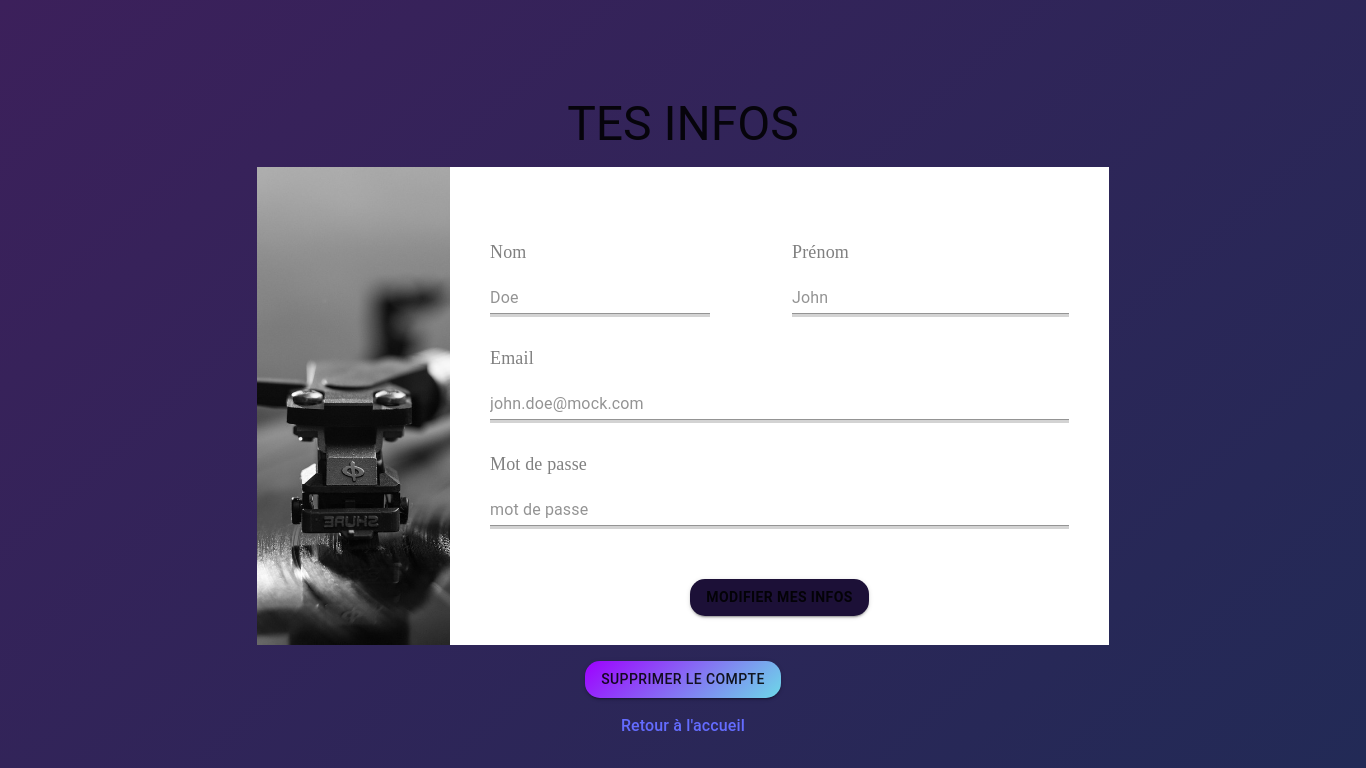
Scenario: Profile page test › Should display modals on delete account request
Click the button "Supprimer le compte" at (683, 680), box [585, 661, 781, 698]
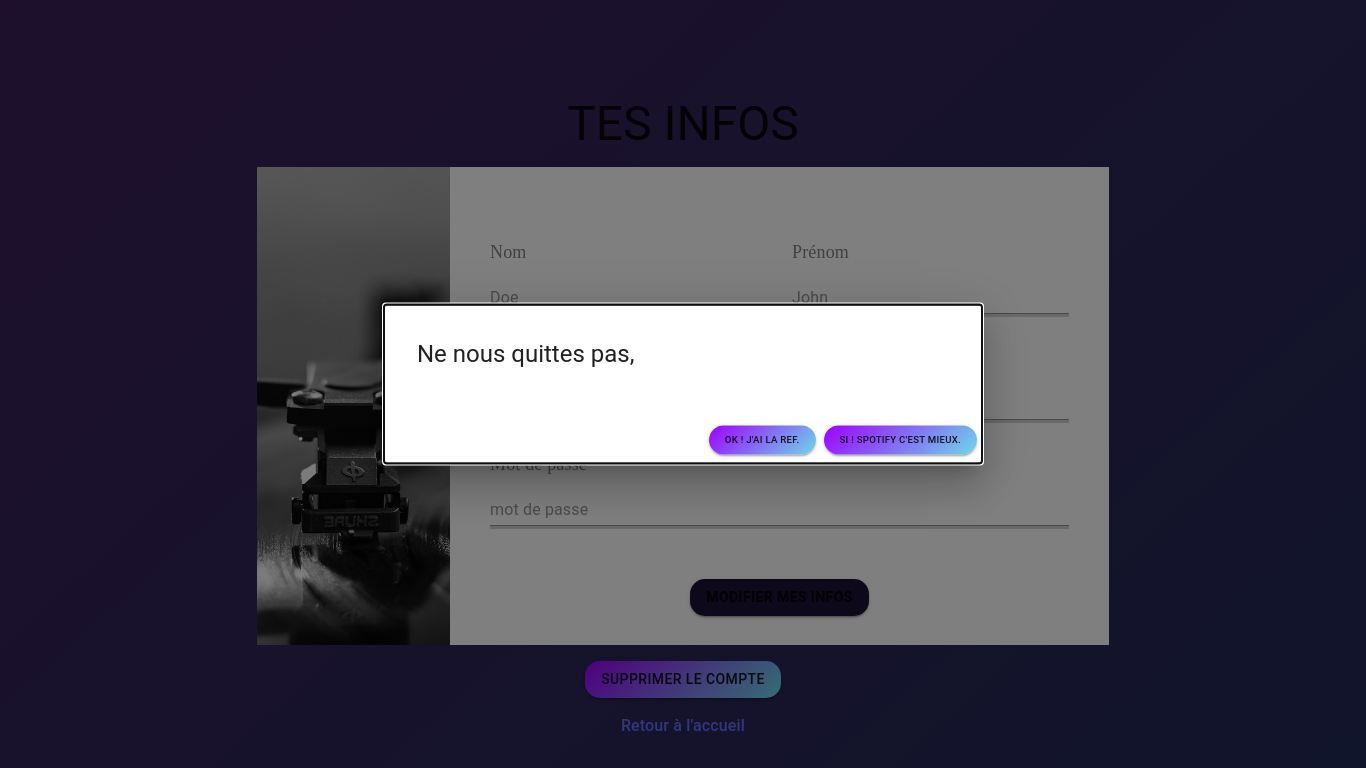
Check: the heading "Ne nous quittes pas," is shown, box [417, 340, 634, 368]
Check: the text "Nous t'offrirons des perles de pluies venues de pays où il ne pleut pas !" is shown, box [417, 386, 981, 410]
Check: the button "Ok ! J'ai la ref." is shown, box [709, 426, 816, 454]
Click the button "Si ! Spotify c'est mieux." at (900, 440), box [824, 426, 977, 454]
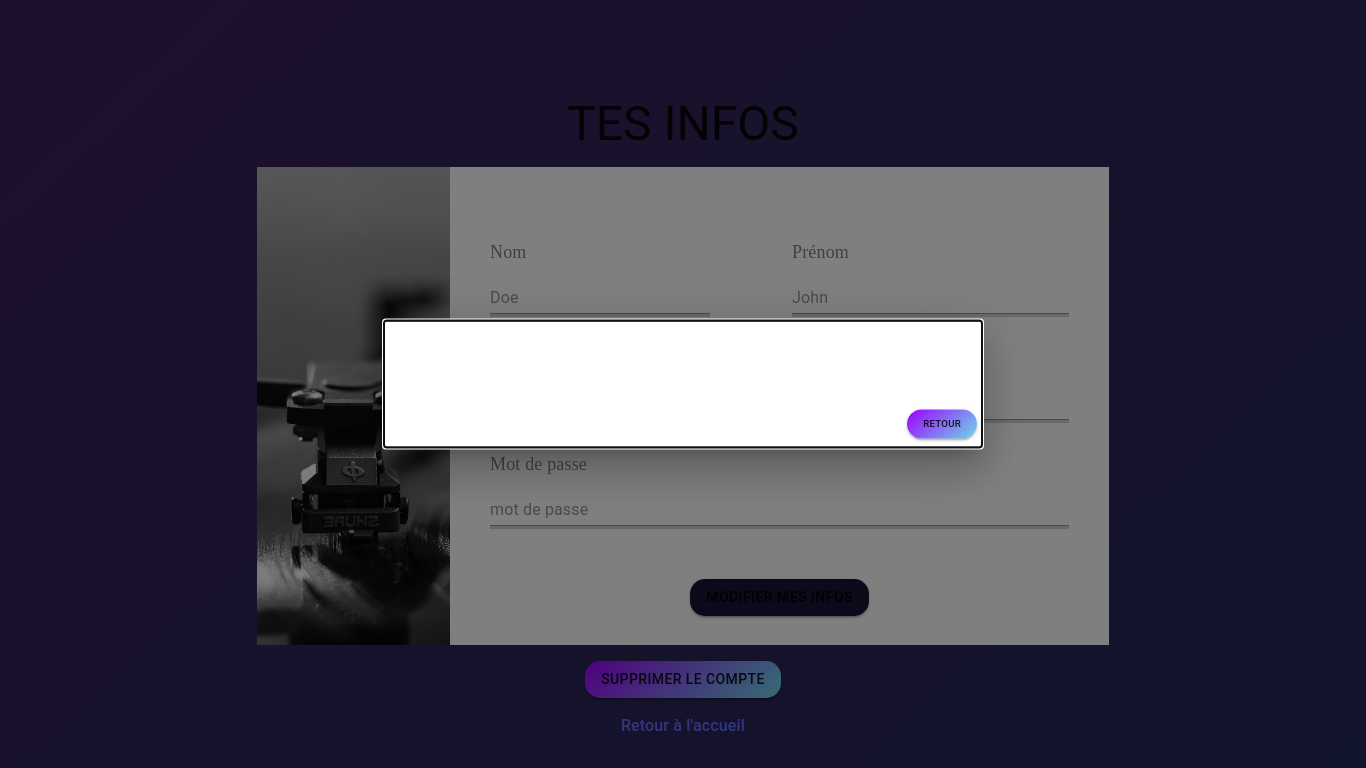
Check: the button "Retour" is shown, box [907, 410, 977, 438]
